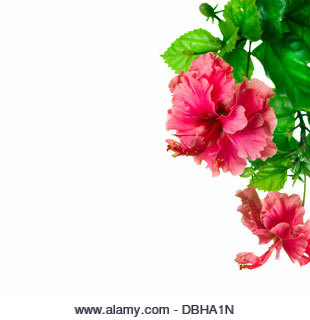Hibiscus: (162, 55, 278, 174), (224, 179, 309, 283), (192, 1, 241, 26)
